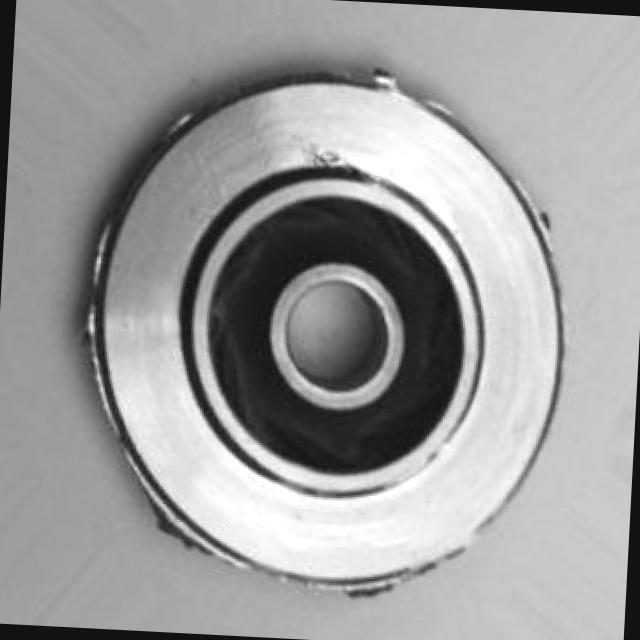Defect: (296, 137, 374, 190)
